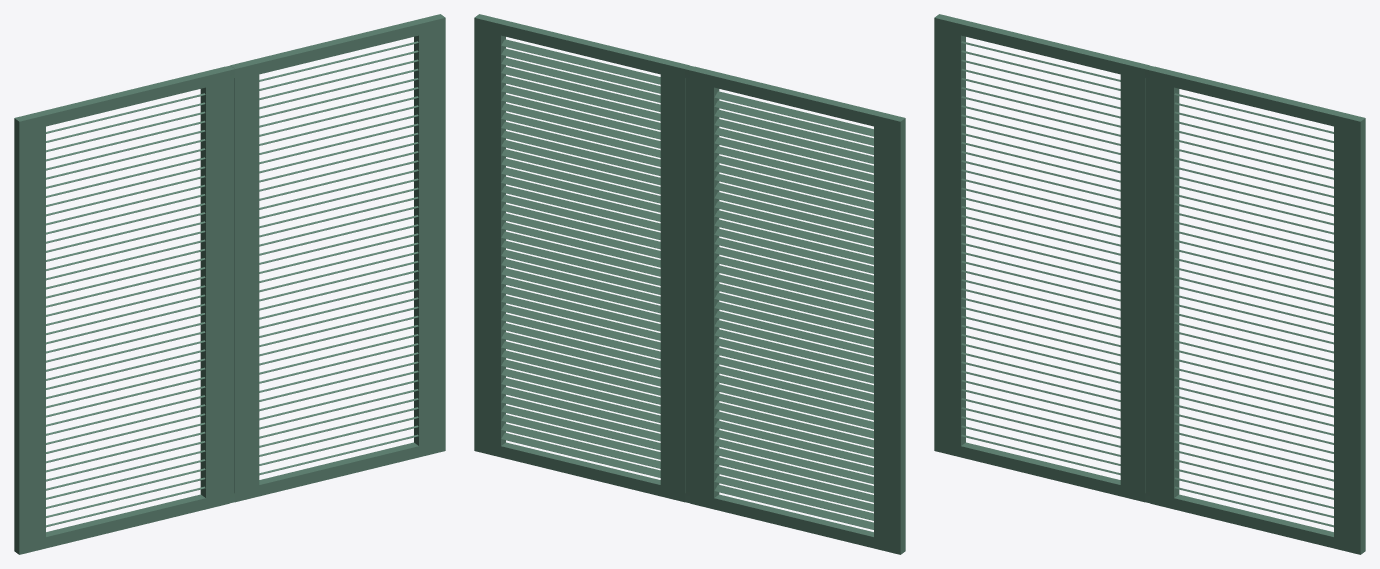
The model's file is ShutterNew.glb.
3 views of the same model, side by side, from view 1: azimuth 30°, elevation 25°; view 2: azimuth 150°, elevation 25°; view 3: azimuth 330°, elevation 25° (orthographic).
Visible parts, largest first — view 1: PLANTATION__SHUTTER; view 2: PLANTATION__SHUTTER; view 3: PLANTATION__SHUTTER.
Boxes of the visible parts, x1,y1,x2,y2 form: PLANTATION__SHUTTER: (14, 14, 445, 554); PLANTATION__SHUTTER: (474, 14, 905, 554); PLANTATION__SHUTTER: (934, 14, 1365, 554).
Bounding box in the file's own units: 47.17 × 45.8 × 0.9827.
